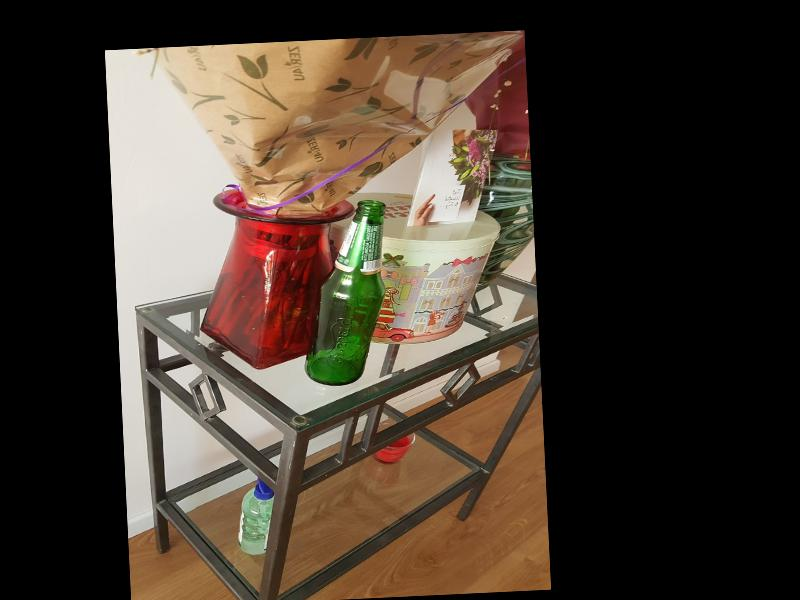Beer: (298, 198, 392, 388)
